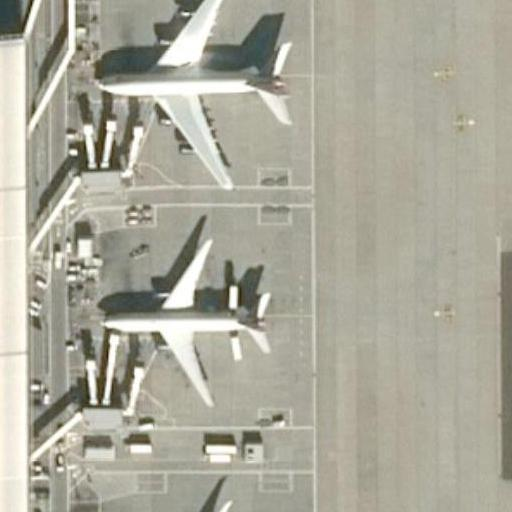Aircraft: (93, 0, 303, 180), (98, 228, 280, 399), (92, 486, 299, 512)
